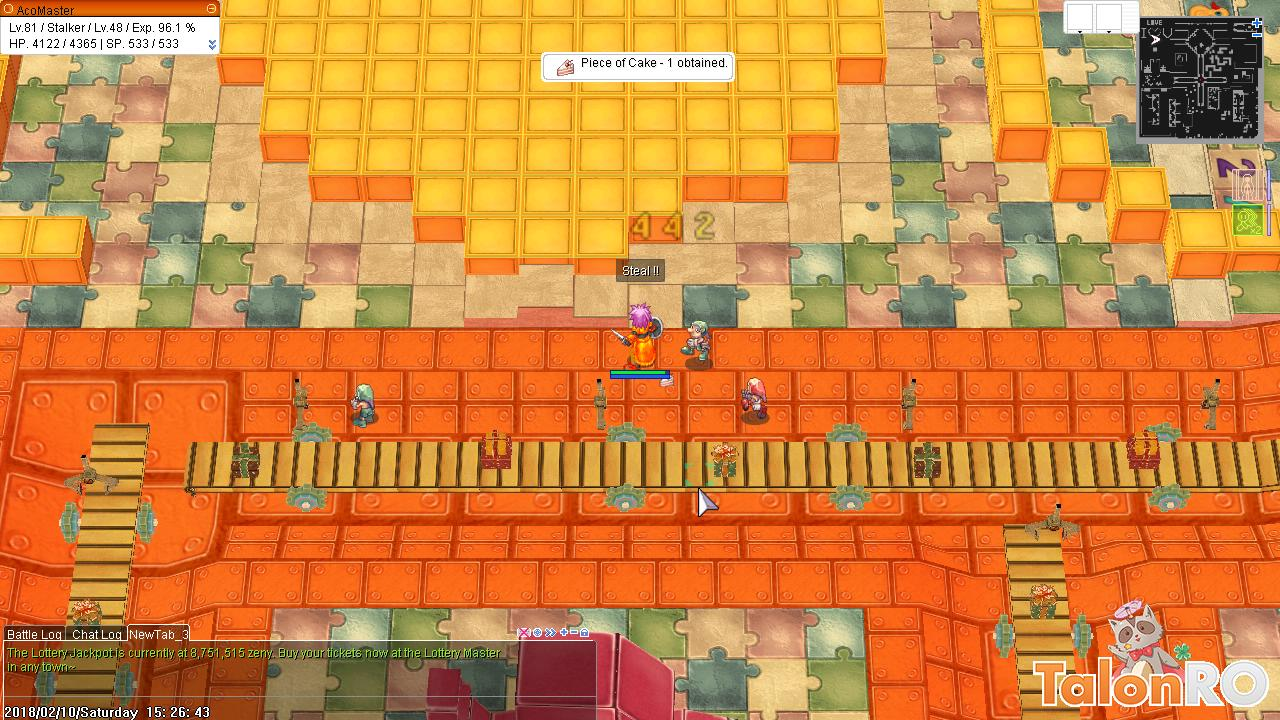loot: (657, 372, 676, 388)
